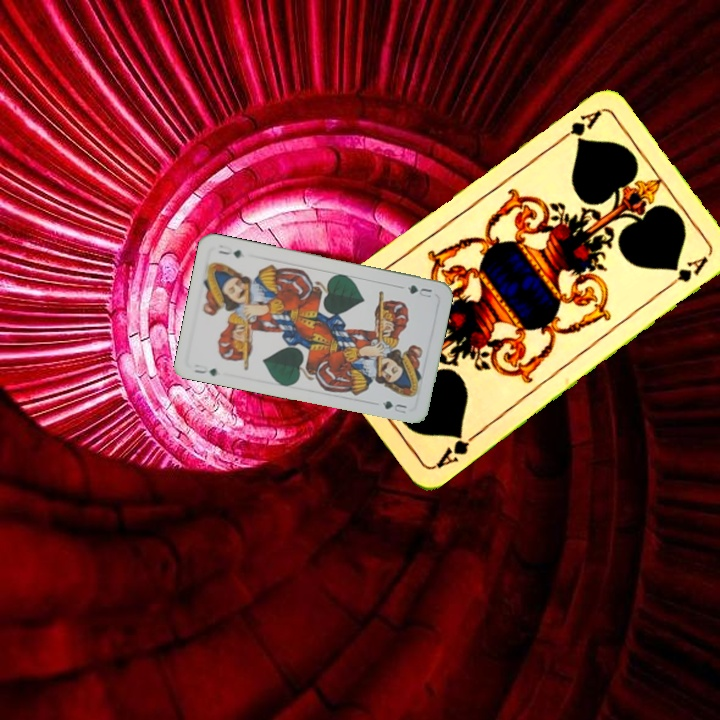GA: (431, 426, 482, 472), (551, 107, 603, 148)
GU: (402, 281, 434, 300), (190, 360, 220, 379)
